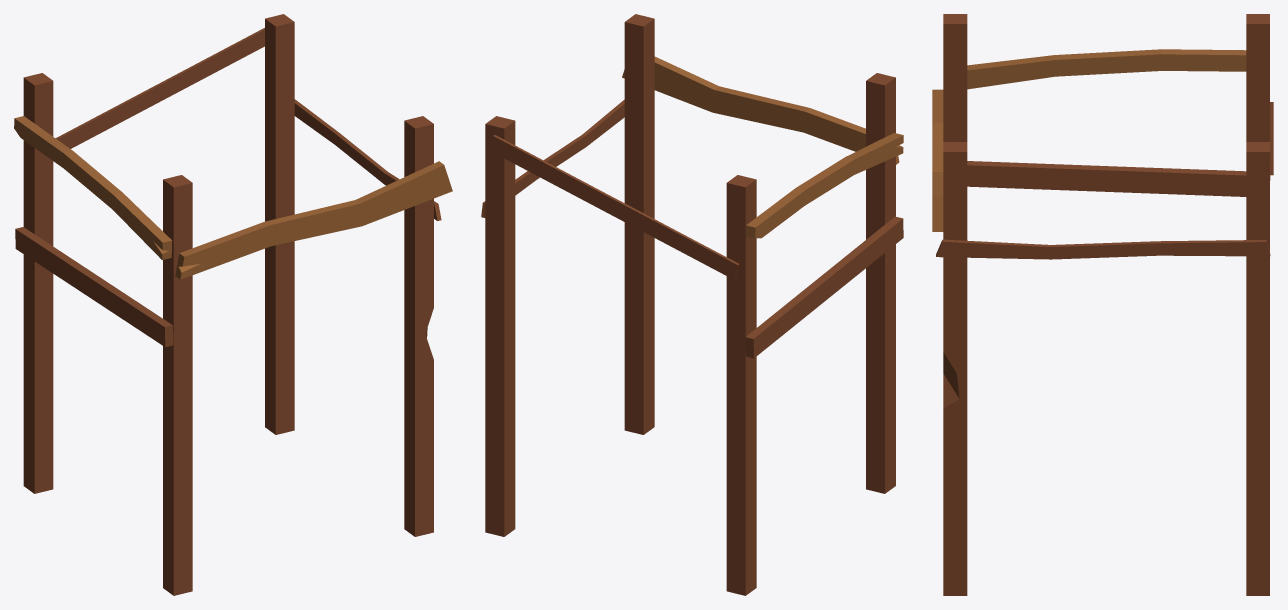
File: LP_PostApoc_WoodenFrame.fbx
3 views of the same model, side by side, from view 1: azimuth 30°, elevation 25°; view 2: azimuth 150°, elevation 25°; view 3: azimuth 270°, elevation 25° (orthographic). The views are drawn at different scales.
Visible parts, largest first — view 1: WoodenFrame; view 2: WoodenFrame; view 3: WoodenFrame.
Part boxes in pixels (x1,y1,x2,y2): WoodenFrame: (14,14,452,595); WoodenFrame: (481,14,903,595); WoodenFrame: (932,14,1273,595).
Size of the model in its own units: 218 by 300 by 209.
